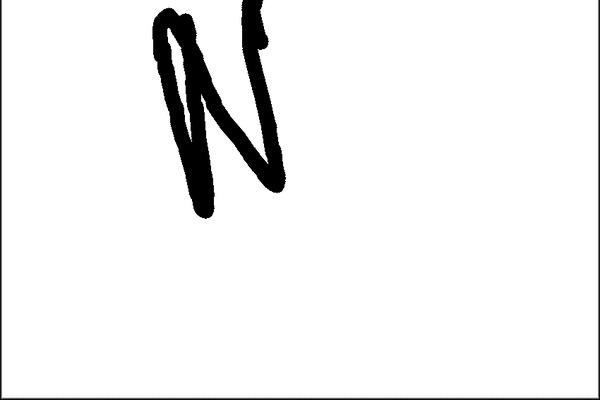N: (146, 0, 294, 221)
